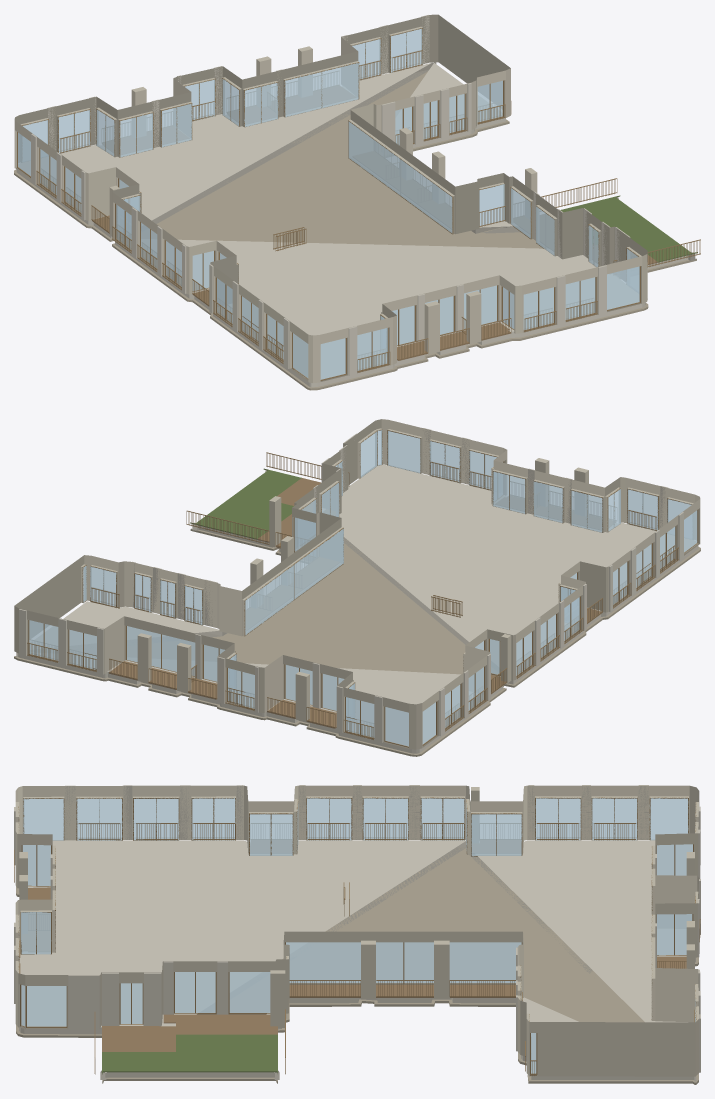
3 renders of one model, top to bottom at view 1: azimuth 30°, elevation 25°; view 2: azimuth 150°, elevation 25°; view 3: azimuth 270°, elevation 25°, orthographic. The views are drawn at different scales.
Size of the model in its own units: 31.94 by 3.92 by 39.
